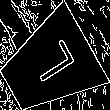L_SW: (21, 40, 76, 92)
